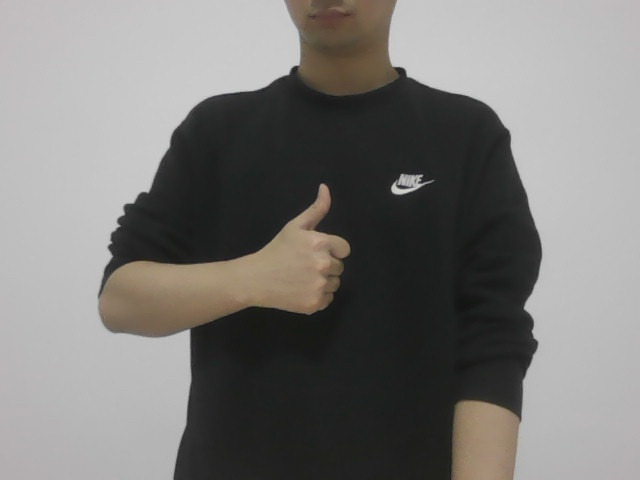good: (258, 172, 358, 322)
